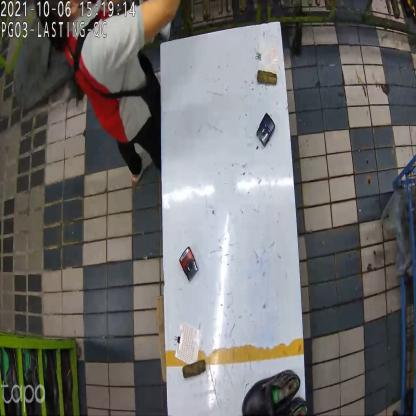shoes: (240, 367, 306, 415)
stamp: (256, 111, 275, 149), (180, 246, 198, 280)
